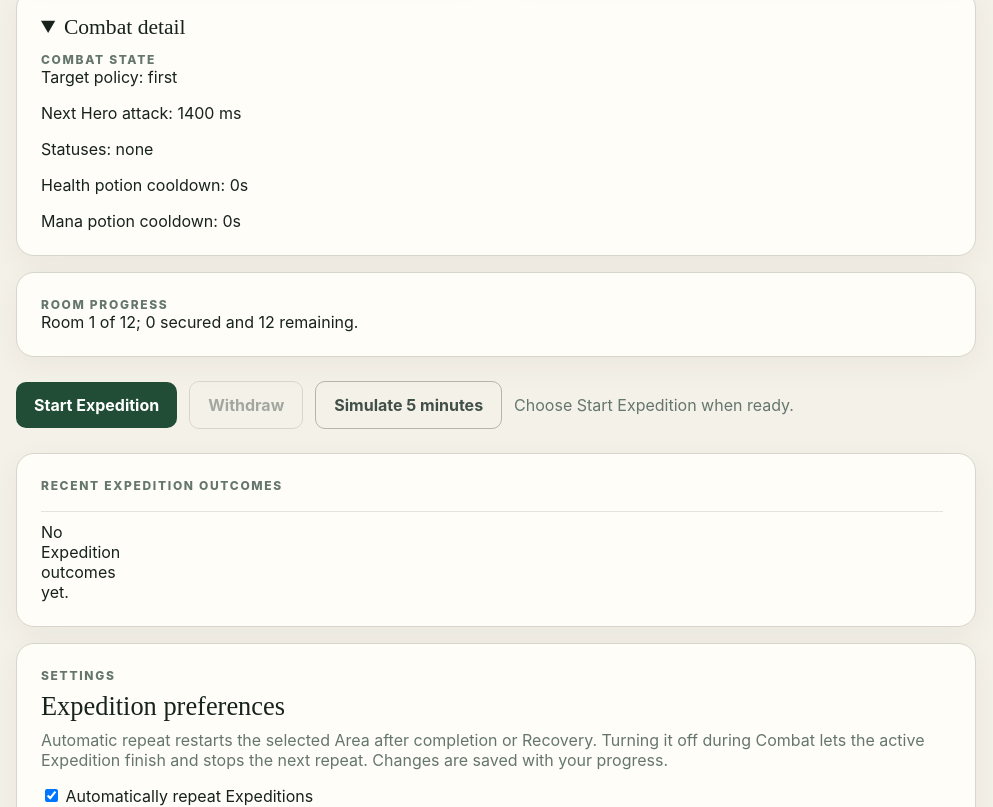
Test: playable browser shell › lets the player start an Expedition from the dashboard
(page scrolled)
Click the button "Start Expedition".
click(97, 405)  # box top-left (16, 382), bottom-right (177, 428)
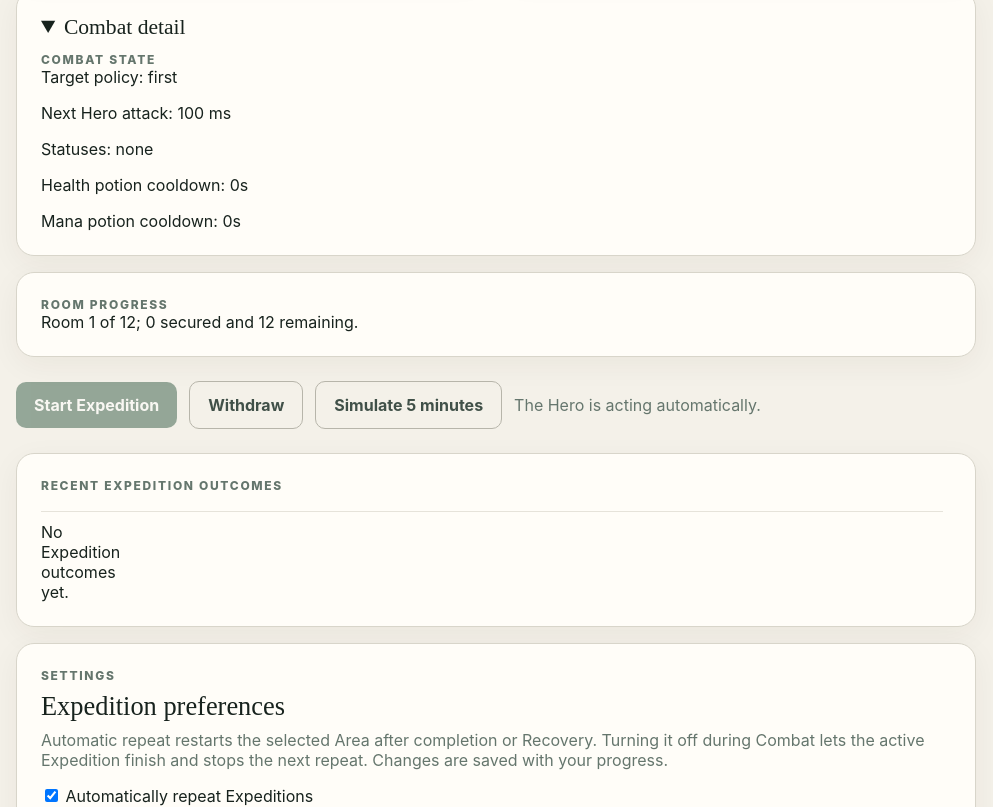
Now the button "Withdraw" is enabled, box top-left (189, 381), bottom-right (303, 429)
